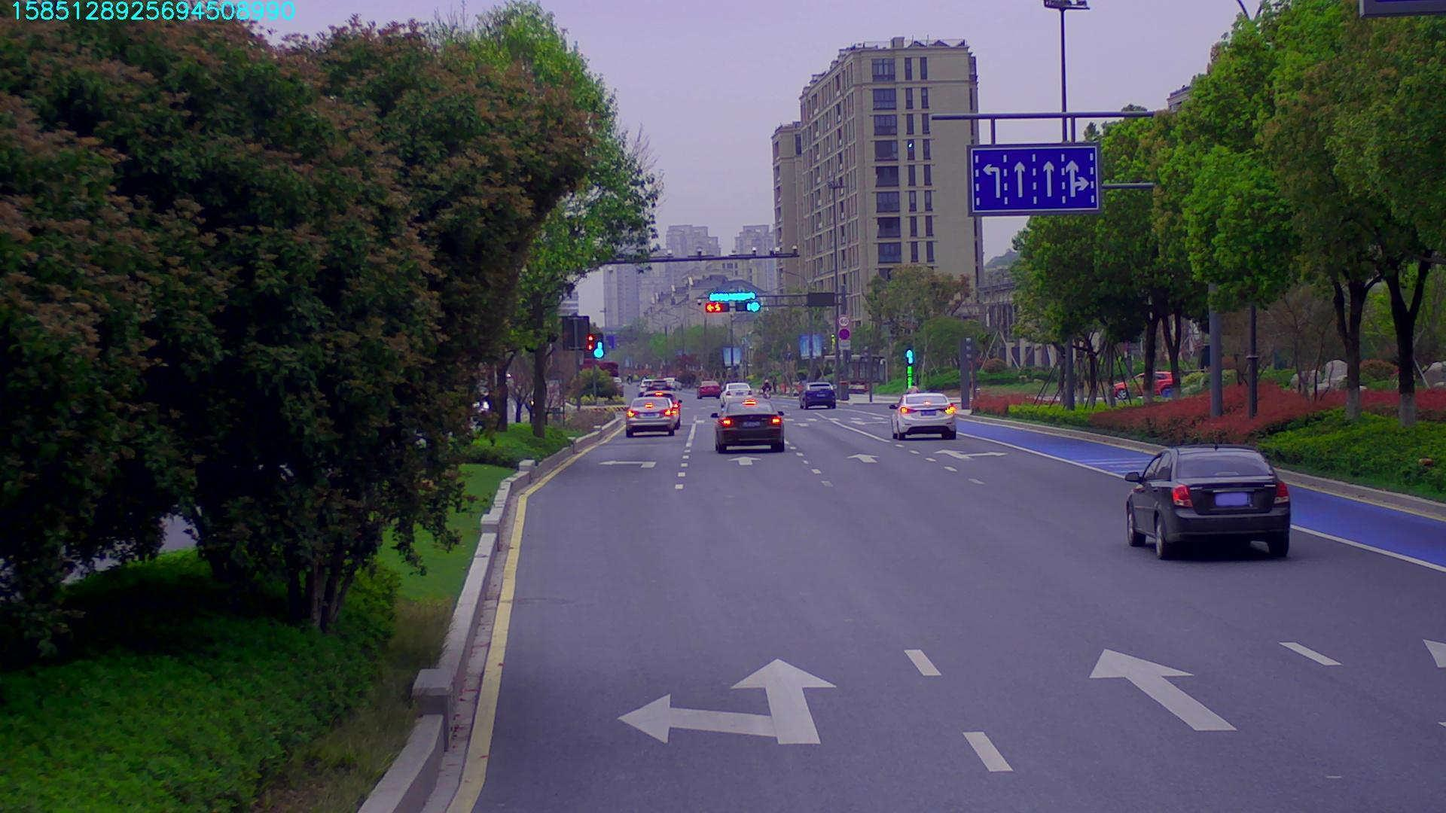green: (735, 301, 760, 311)
red: (704, 302, 735, 315)
wait_on: (705, 288, 755, 301)
